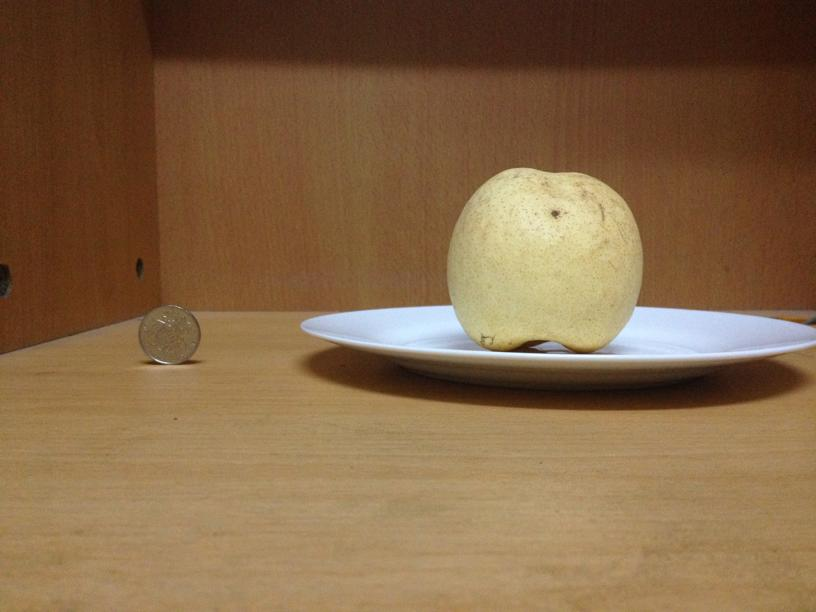coin: (135, 303, 201, 364)
pear: (449, 162, 645, 351)
